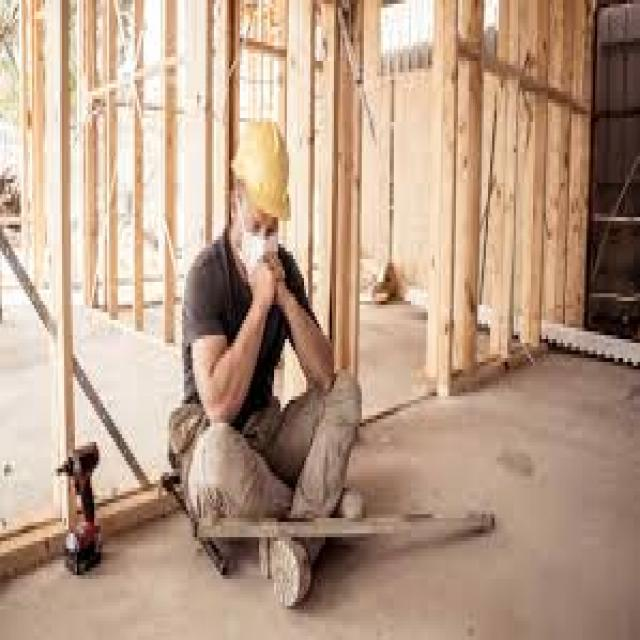Safety-Helmet: (222, 110, 300, 232)
